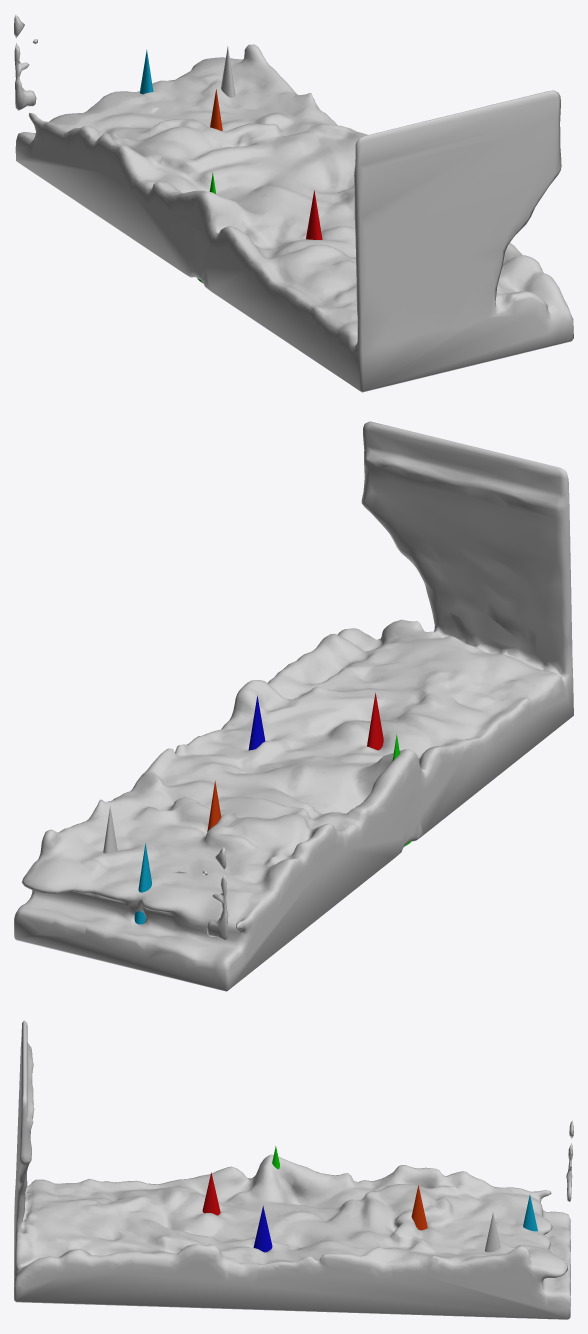
The picture shows the model from 3 angles, top to bottom: view 1: azimuth 30°, elevation 25°; view 2: azimuth 150°, elevation 25°; view 3: azimuth 270°, elevation 25°; orthographic projection. The views are drawn at different scales.
Visible parts, largest first — view 1: Liquid_Domain; view 2: Liquid_Domain; view 3: Liquid_Domain, 円錐.002, 円錐.001, 円錐.004.
Boxes of the visible parts, <box> form: Liquid_Domain: <box>14,14,573,392</box>; Liquid_Domain: <box>14,421,573,991</box>; Liquid_Domain: <box>14,1020,573,1319</box>; 円錐.002: <box>253,1205,272,1252</box>; 円錐.001: <box>202,1172,220,1215</box>; 円錐.004: <box>411,1185,427,1230</box>.
Bounding box in the file's own units: 129 × 157 × 363.
